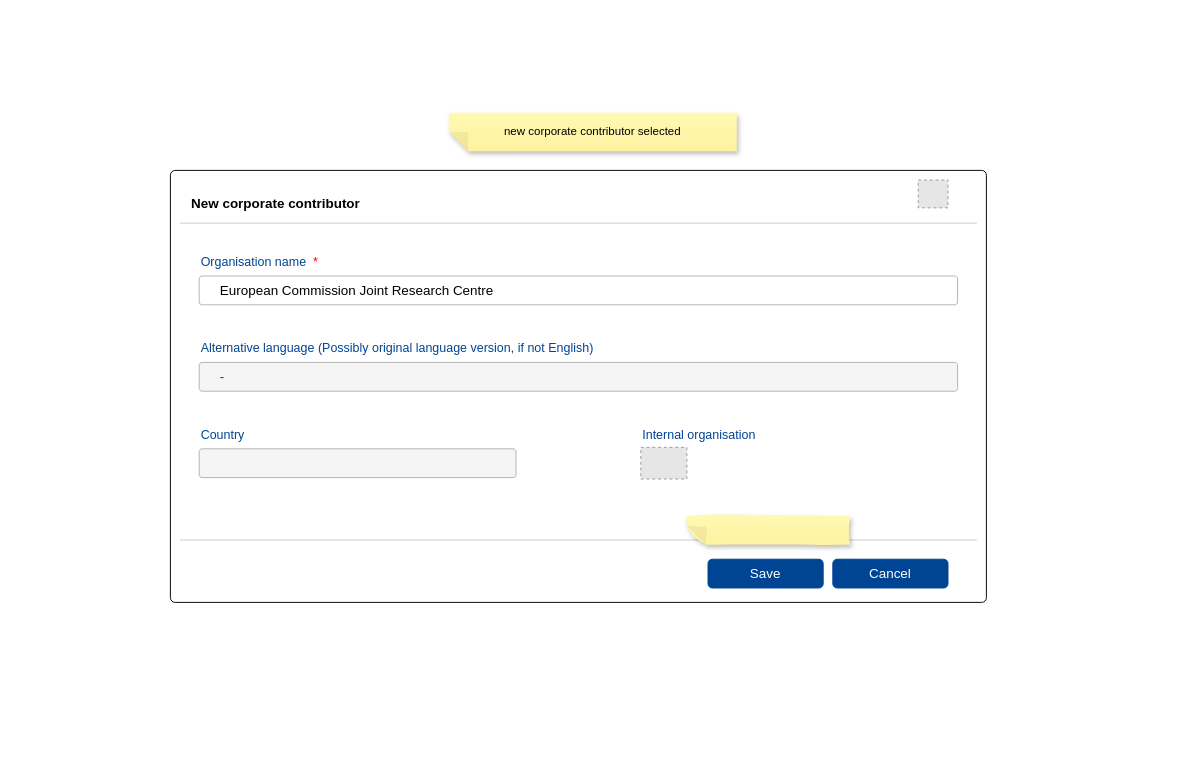
This 1185x781 diagram has some shape labels left out. Grey dashed boxes stand in for pictures. Here are the shapes that lost their labels. From the top down, the centre of each, then its label:
(357,463): Belgium
(769,531): save now
